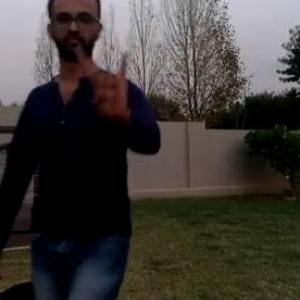takeoff-hand: (67, 38, 134, 125)
